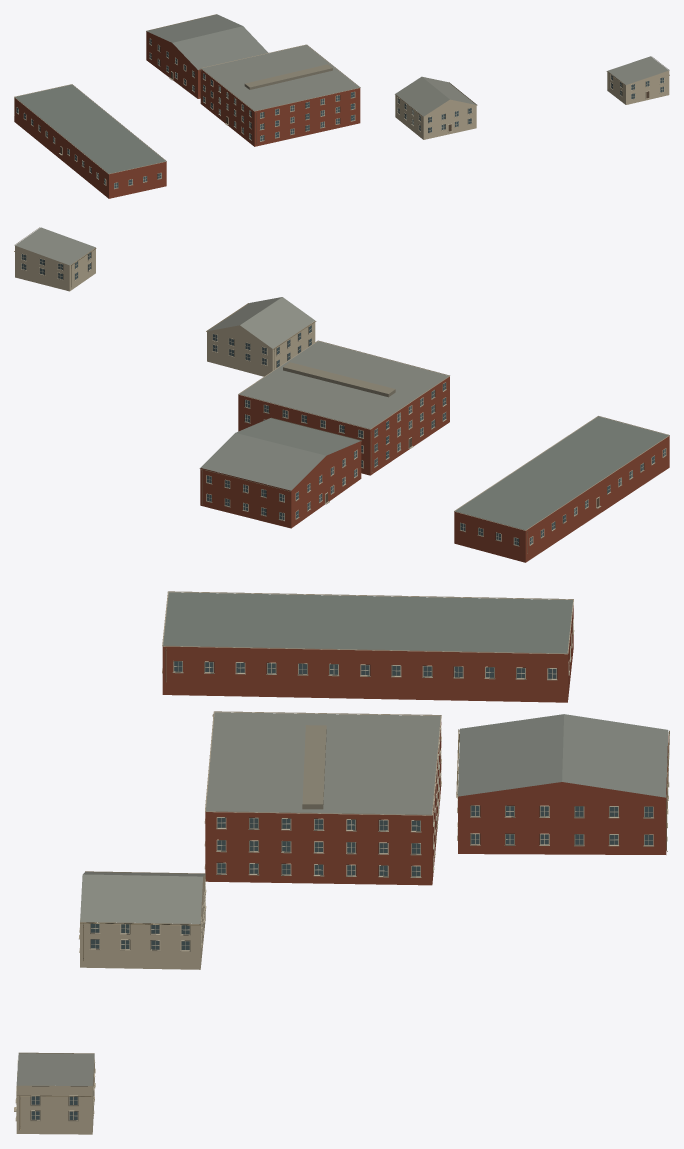
3 renders of one model, top to bottom at view 1: azimuth 30°, elevation 25°; view 2: azimuth 150°, elevation 25°; view 3: azimuth 270°, elevation 25°, orthographic. The views are drawn at different scales.
Parts seen in each view (by area): view 1: -5_-4_599928439_20, -5_-4_599928445_26; view 2: -5_-4_599928439_20, -5_-4_599928445_26; view 3: -5_-4_599928439_20, -5_-4_599928445_26.
Part boxes in pixels (x1,y1,x2,y2): -5_-4_599928439_20: (14,14,669,198); -5_-4_599928445_26: (395,70,669,139); -5_-4_599928439_20: (14,227,669,562); -5_-4_599928445_26: (15,245,315,376); -5_-4_599928439_20: (14,591,669,1129); -5_-4_599928445_26: (16,874,205,1134).
Size of the model in its own units: 176 by 13.84 by 97.04.
